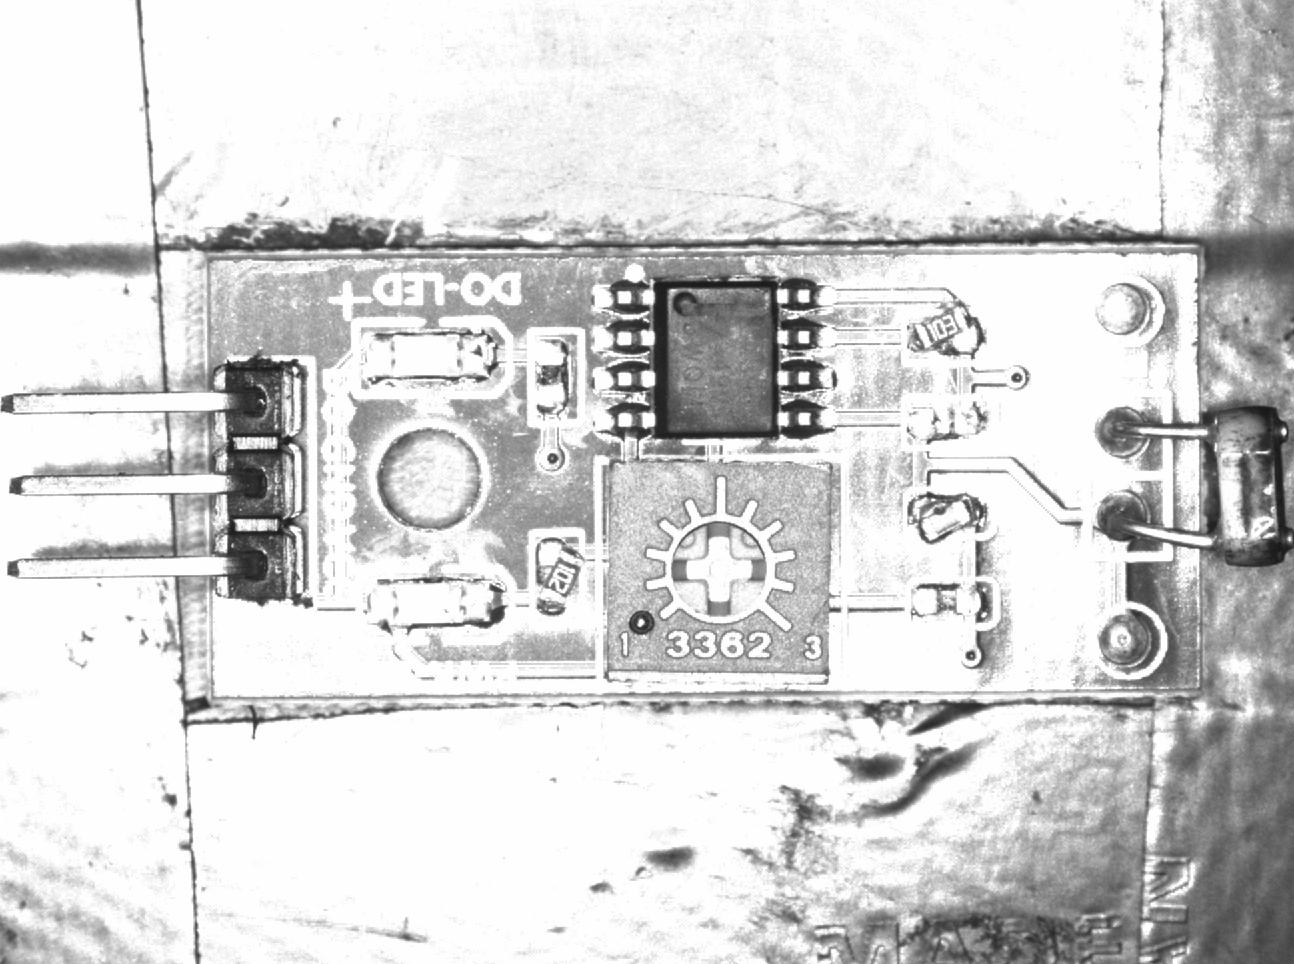lifted: (904, 489, 994, 545), (898, 309, 989, 363), (536, 530, 585, 619)
miss: (523, 331, 581, 430), (899, 397, 998, 449), (907, 576, 1001, 629)
